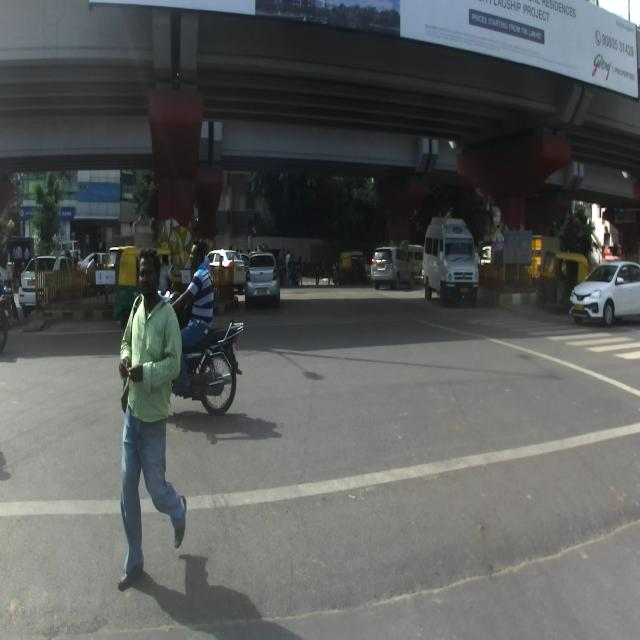bus ahead at: (421, 204, 484, 318)
car ahead at: (567, 253, 640, 335), (242, 250, 282, 303)
motorcycle ahead at: (203, 321, 245, 402)
person ahead at: (111, 242, 187, 576)
